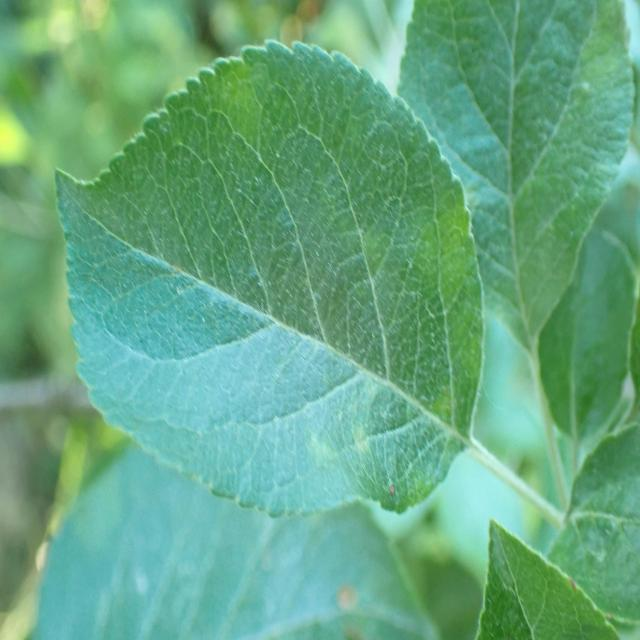scab: (104, 41, 448, 501)
